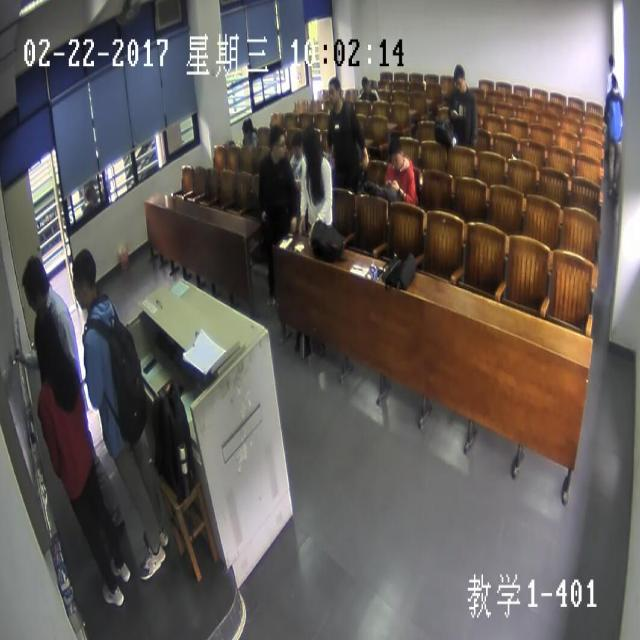person: (68, 243, 99, 307), (30, 312, 60, 370), (20, 258, 48, 307), (301, 122, 323, 163), (266, 124, 287, 159), (388, 132, 405, 170), (452, 59, 467, 95), (327, 72, 343, 105), (290, 129, 304, 159), (608, 70, 620, 96), (240, 115, 252, 139), (606, 50, 615, 69), (361, 74, 370, 90)
